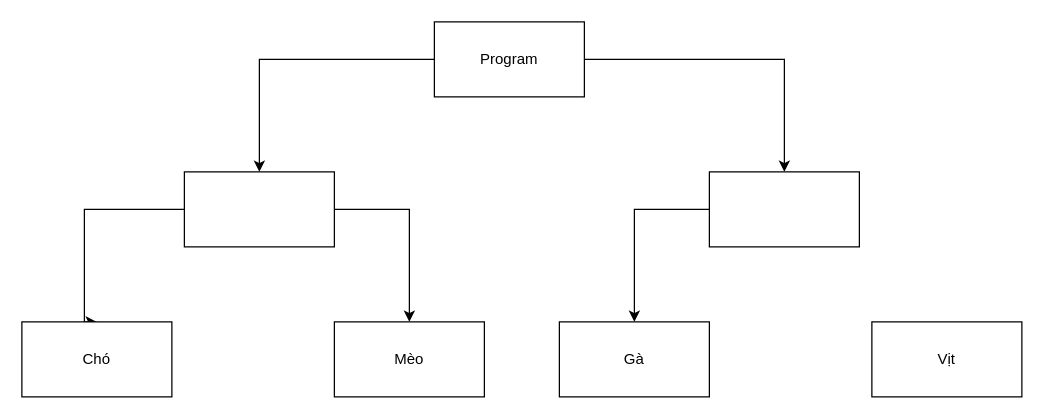
Some shapes in this 1044 by 419 pixel diagram are drawn without their labels. The shapes that lost their labels are listed below. From the top down, each one's centre as x and y in pixels, then its label:
At point 258,209: "Động vật 4 chân".
At point 783,209: "Động vật 2 chân".
